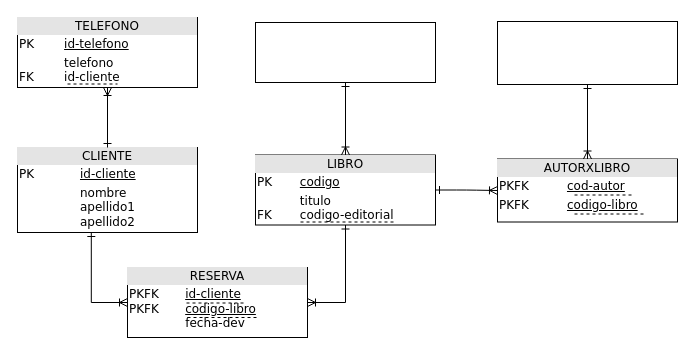
Some shapes in this 695 by 355 pixel diagram are drawn without their labels. Each missing label, with the centre of its shape:
AUTOR PK cod-autor nombre: (x=587, y=52)
EDITORIAL PK codigo-editorial nombre: (x=345, y=52)
